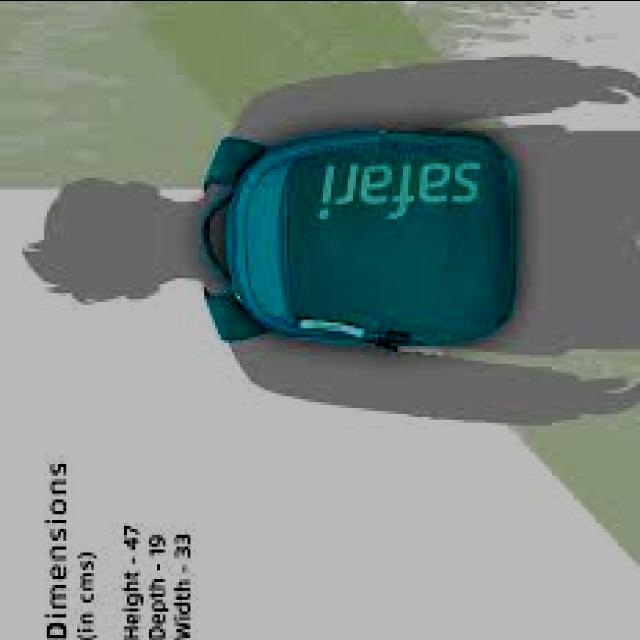backpack: (200, 128, 517, 352)
